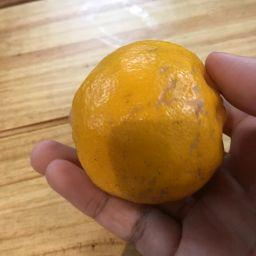Ripe: (69, 41, 228, 204)
